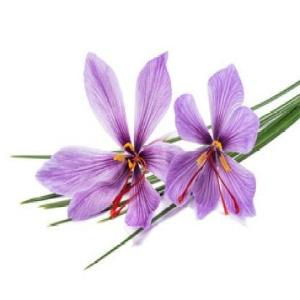Saffron: (41, 51, 174, 232), (173, 63, 263, 215)
